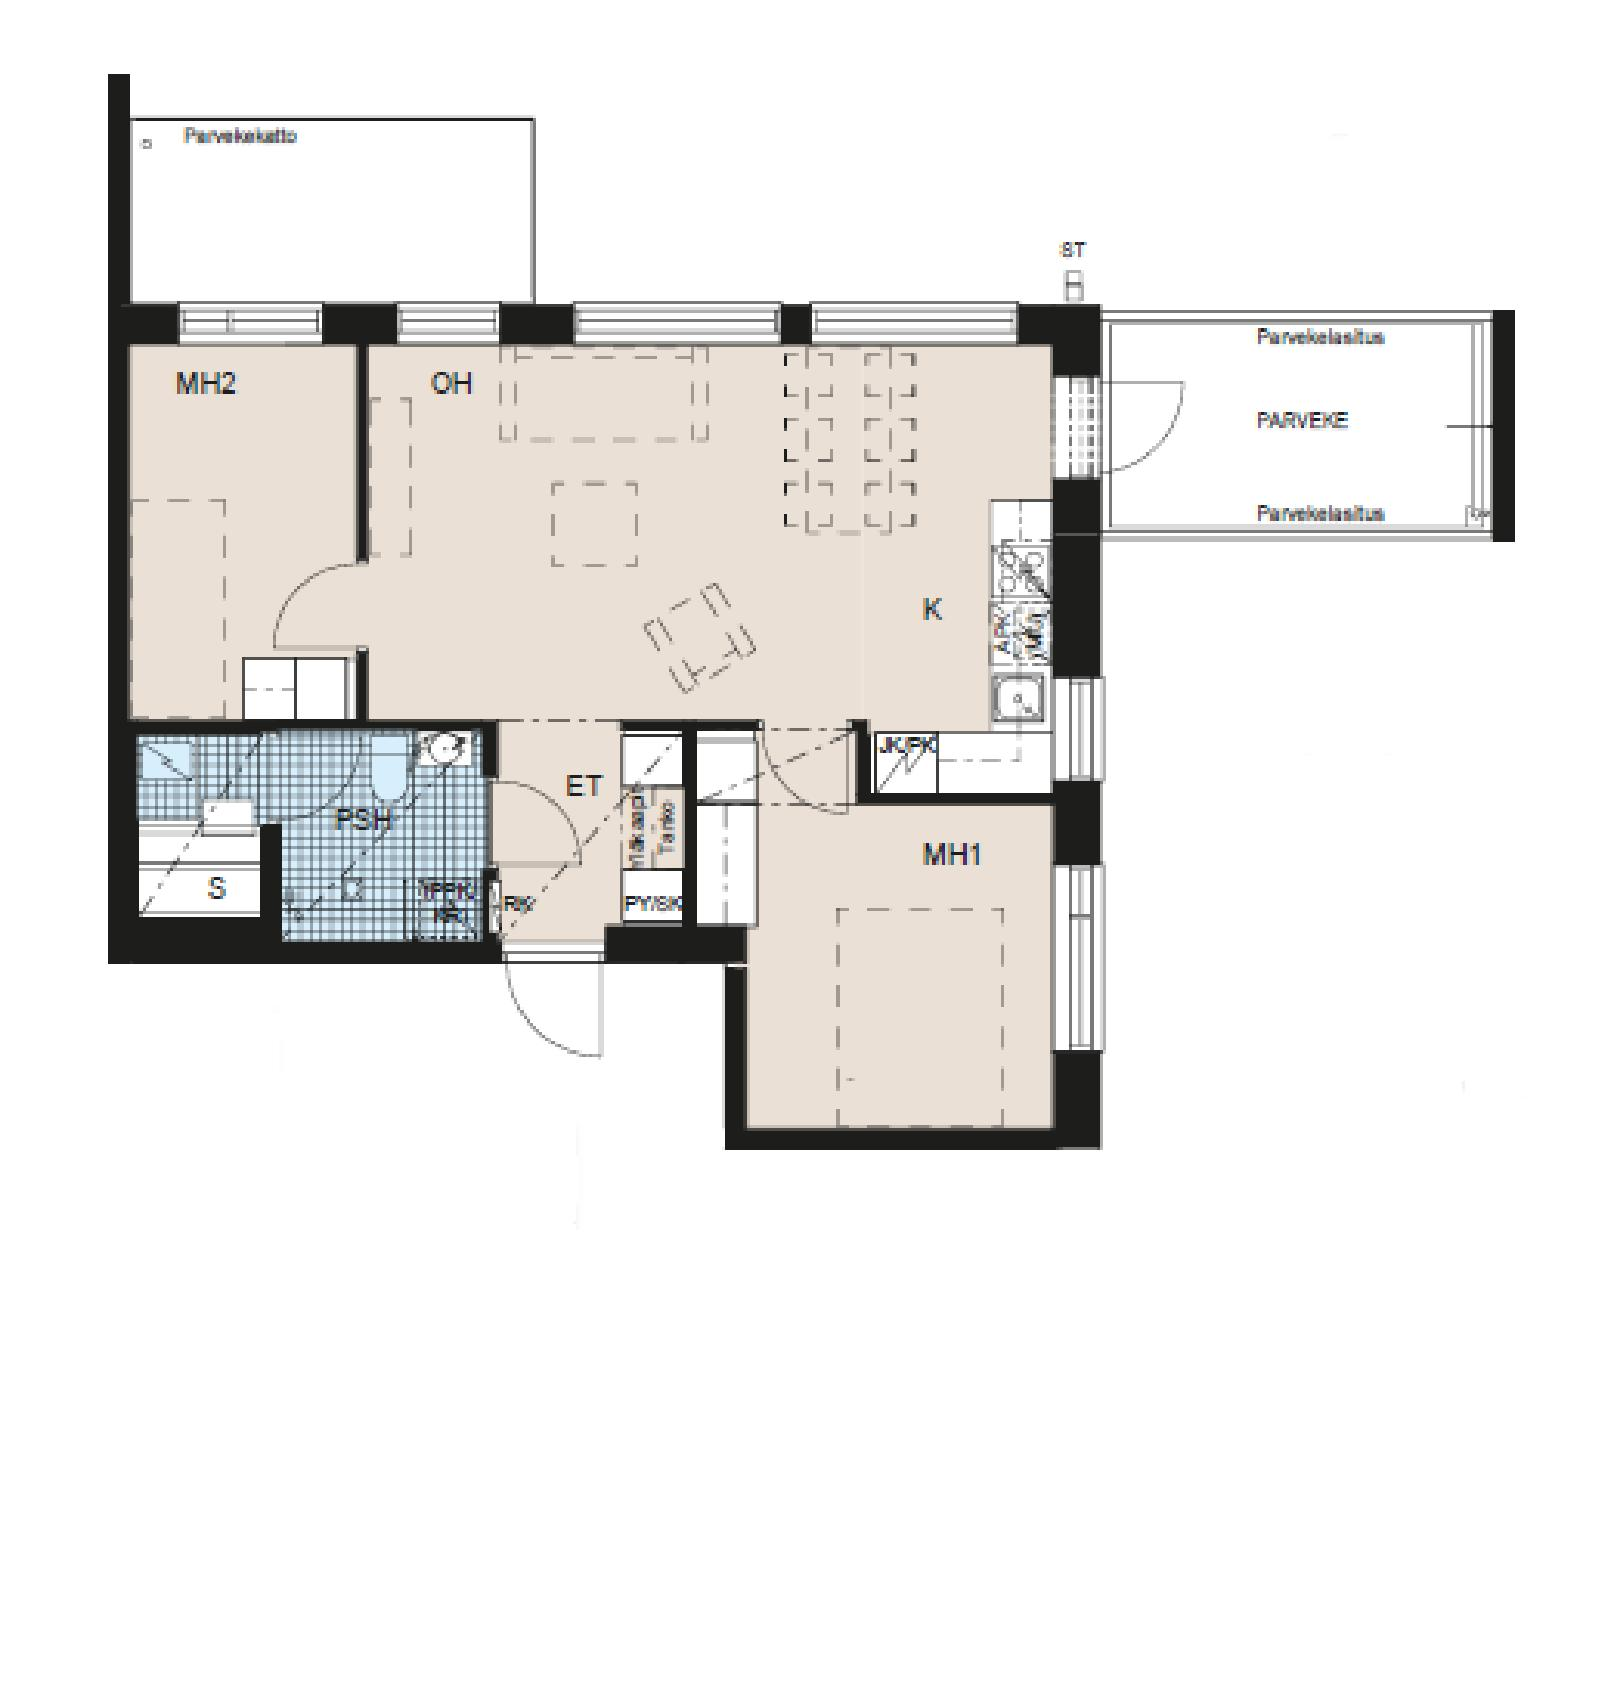door: (495, 931, 624, 1070), (262, 560, 375, 661), (1073, 380, 1184, 471), (478, 767, 575, 870), (771, 720, 865, 810)
window: (807, 300, 1017, 360), (1052, 857, 1113, 1050), (559, 297, 775, 347), (179, 300, 319, 341), (1055, 678, 1107, 782), (391, 300, 500, 347)
zone: (366, 336, 1030, 729), (706, 726, 1055, 1132), (126, 337, 357, 707), (1101, 319, 1500, 518), (139, 729, 489, 940), (129, 118, 525, 294), (491, 729, 678, 956)
